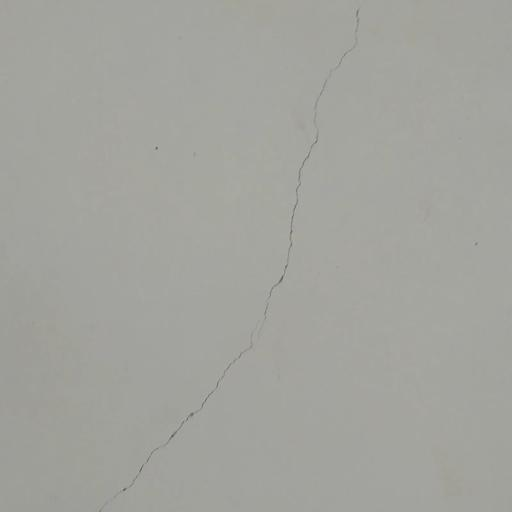minor_crack: (77, 0, 385, 512)
